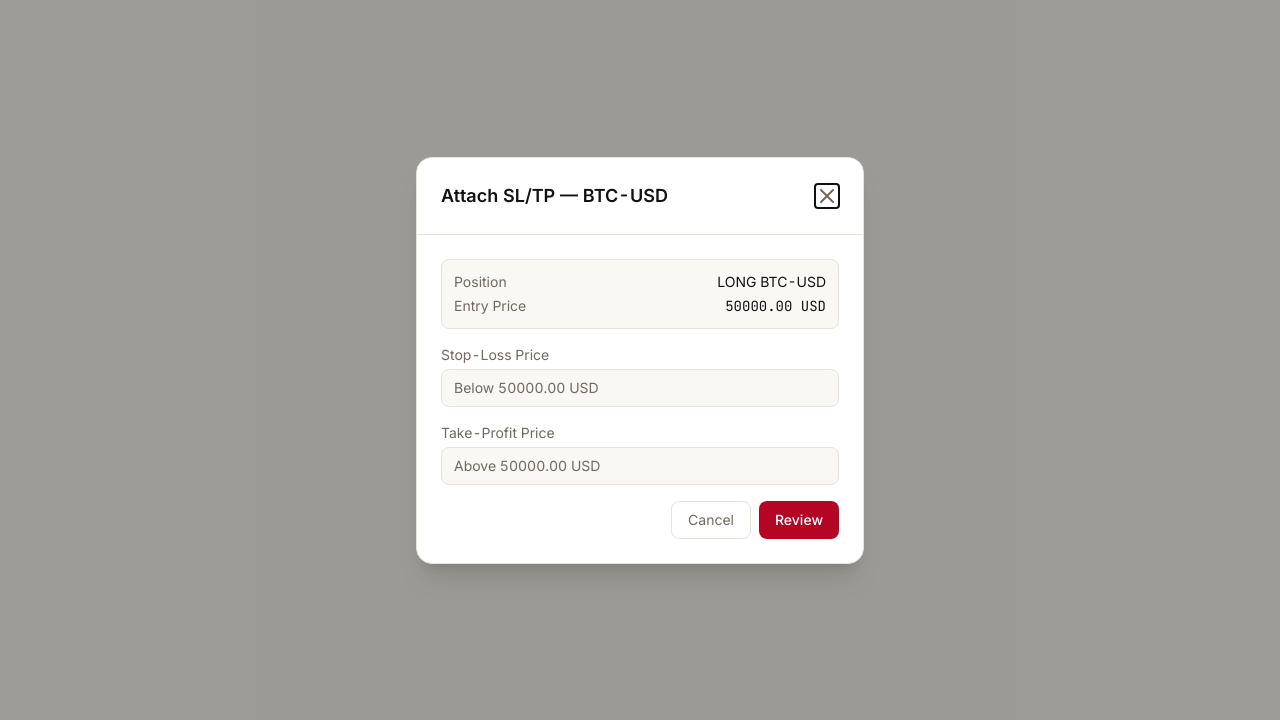
it: AttachBracketModal › validates SL below entry for LONG
Type "55000" into the number field with test id "sl-price-input" at (640, 388), box [441,368,839,406]
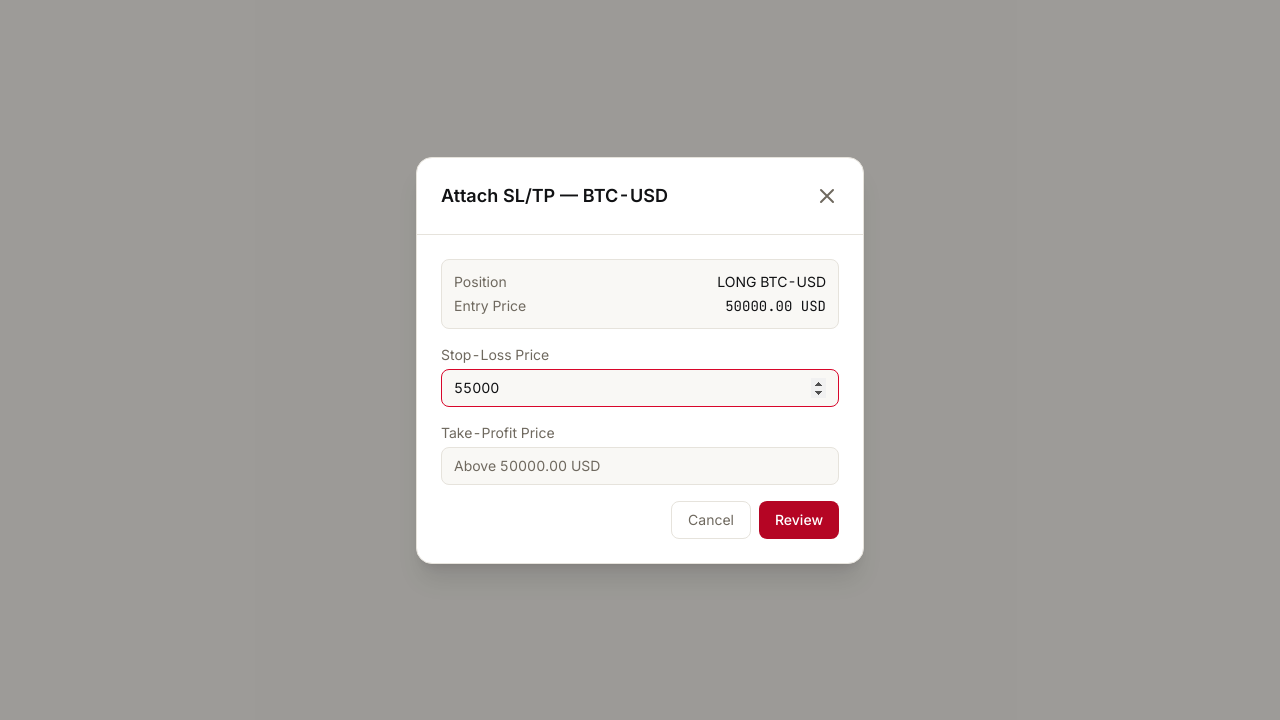
Click the button with test id "bracket-submit" at (799, 520), box [759,500,839,538]
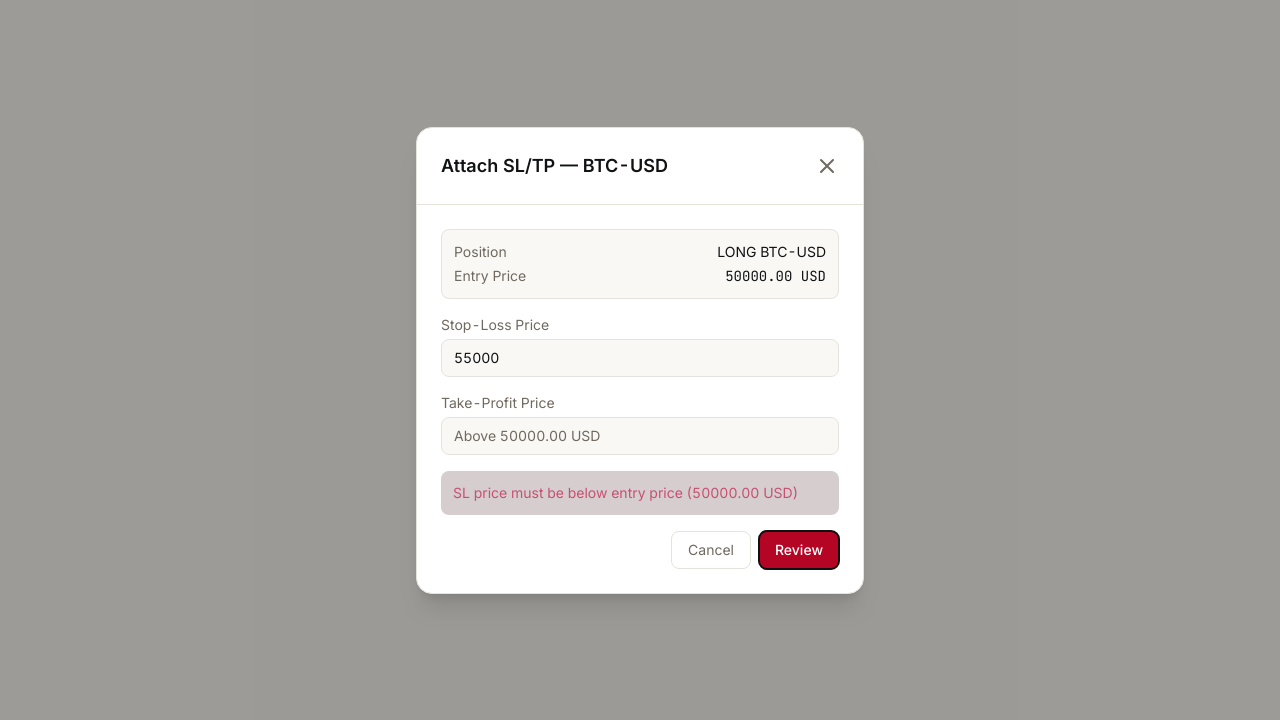
Result: the text with test id "bracket-error" shows "SL price must be below entry" at [453,484,798,500]
